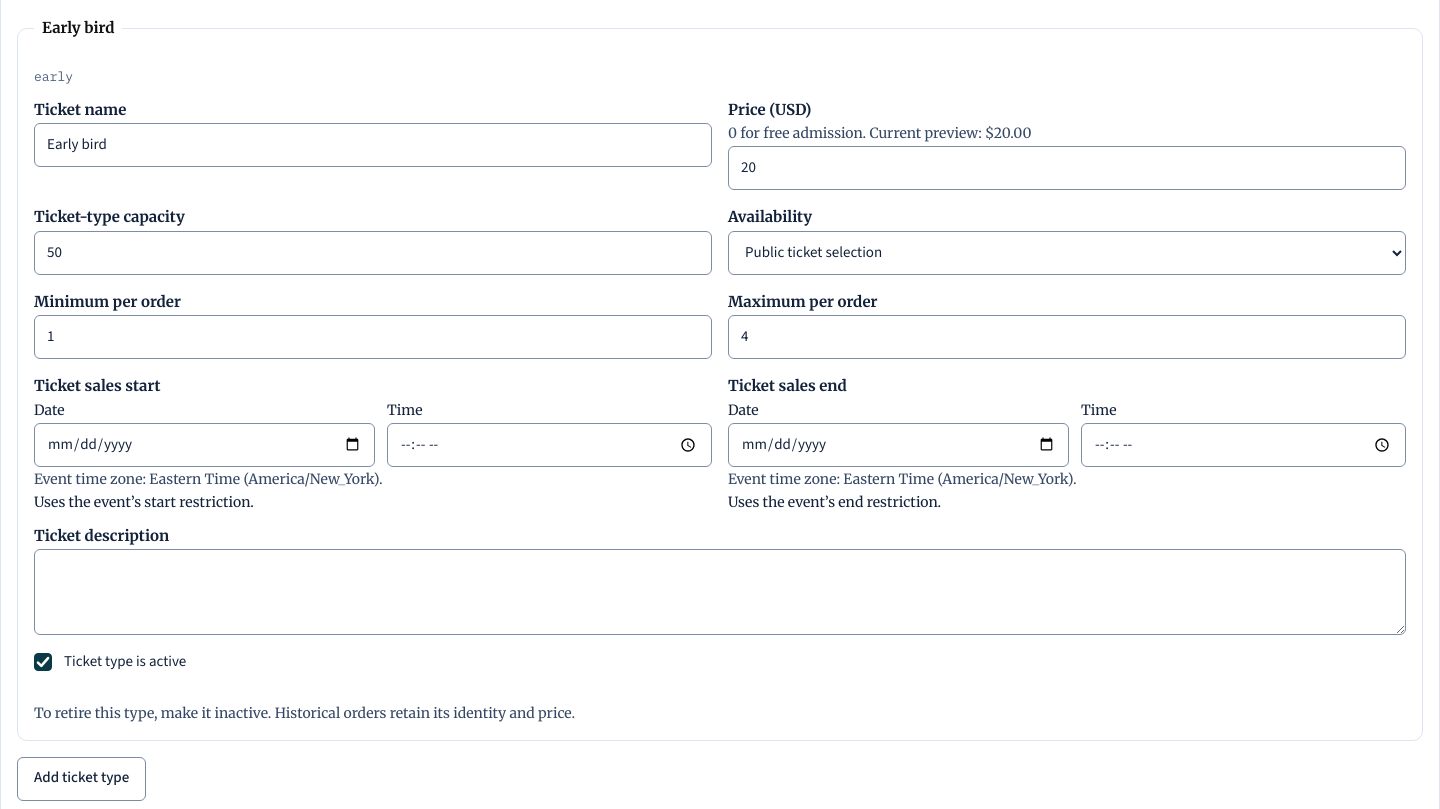
Test case: catalog sales windows › ends early bird at 11:59 PM Eastern on January 15 without any UTC arithmetic
This screenshot has width=1440, height=809.
(page scrolled)
Step 1. Type "2027-01-15" into the date field named "Ticket sales end Date" → (898, 445), box [728,423,1069,467]
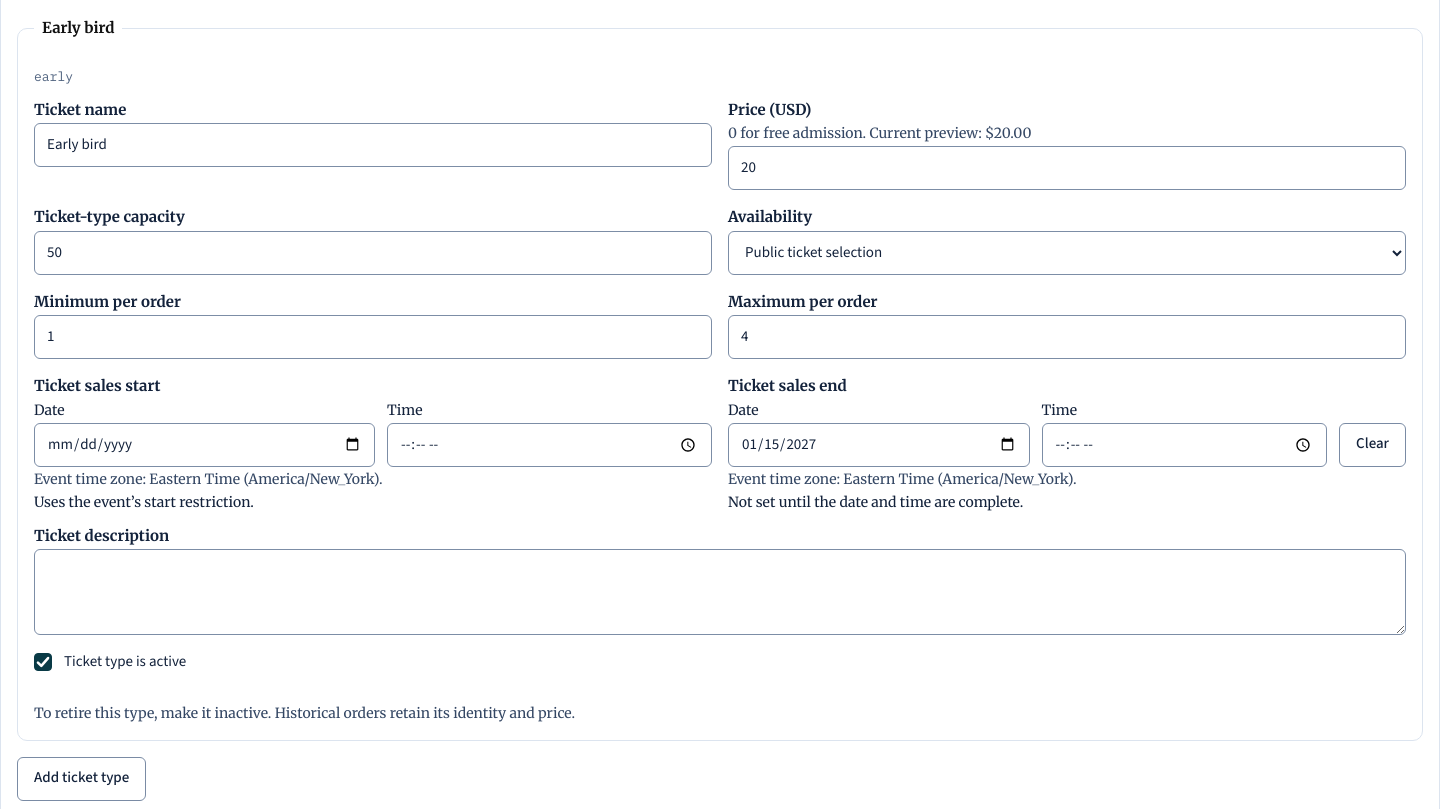
Step 2. Type "23:59" into the time field named "Ticket sales end Time" → (1184, 445), box [1042,423,1327,467]
(page scrolled)
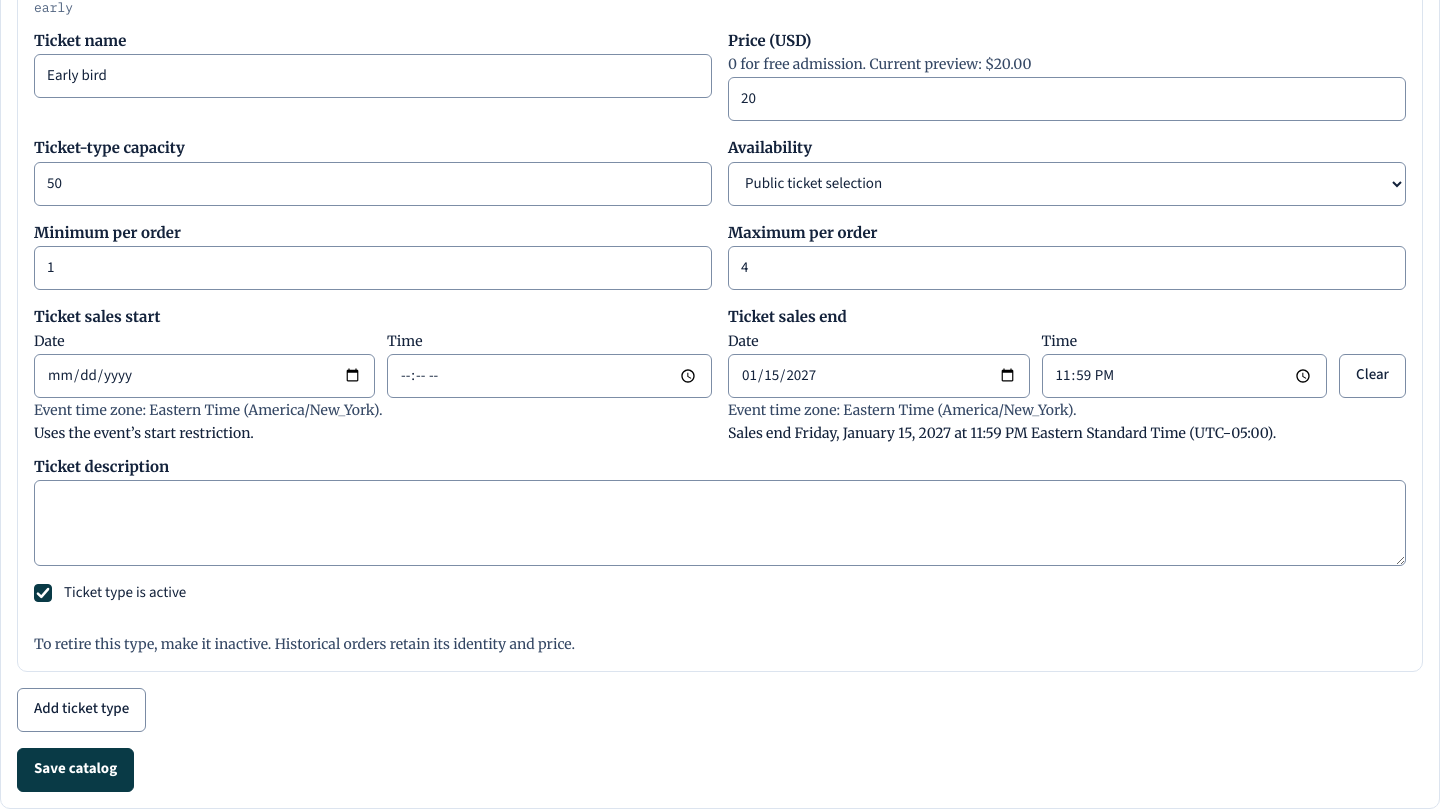
Now the text "Sales end Friday, January 15, 2027 at 11:59 PM Eastern Standard Time (UTC−05:00)." is shown, box [728,424,1276,442]
Step 3. Click the button "Save catalog" → (76, 770), box [17,748,134,792]
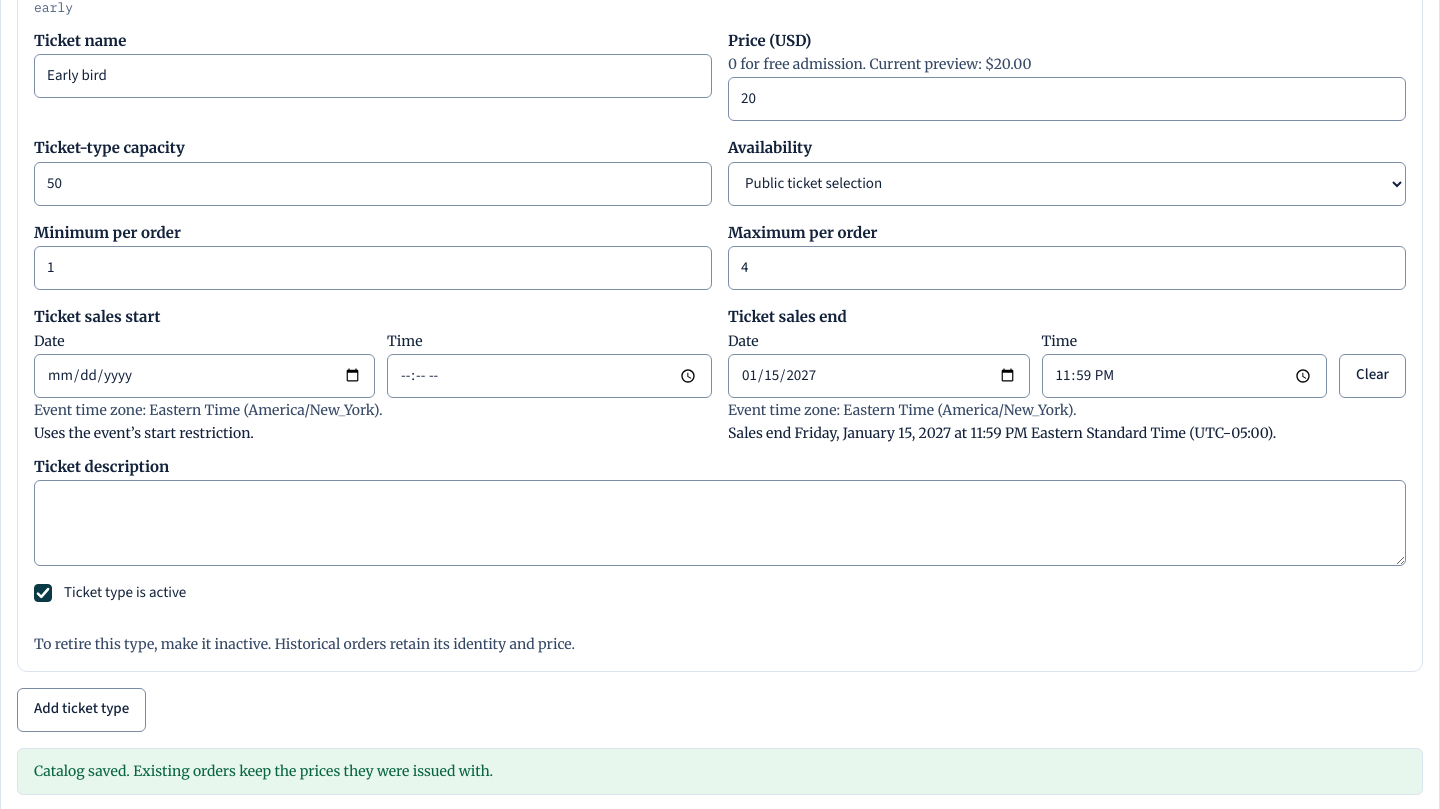
Now the text "Catalog saved. Existing orders keep the prices they were issued with." is shown, box [17,748,1423,795]
